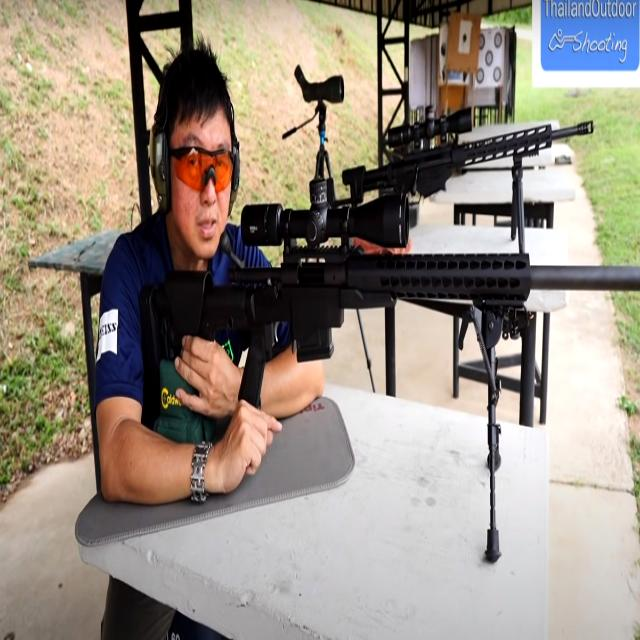rifle: (129, 56, 637, 438)
